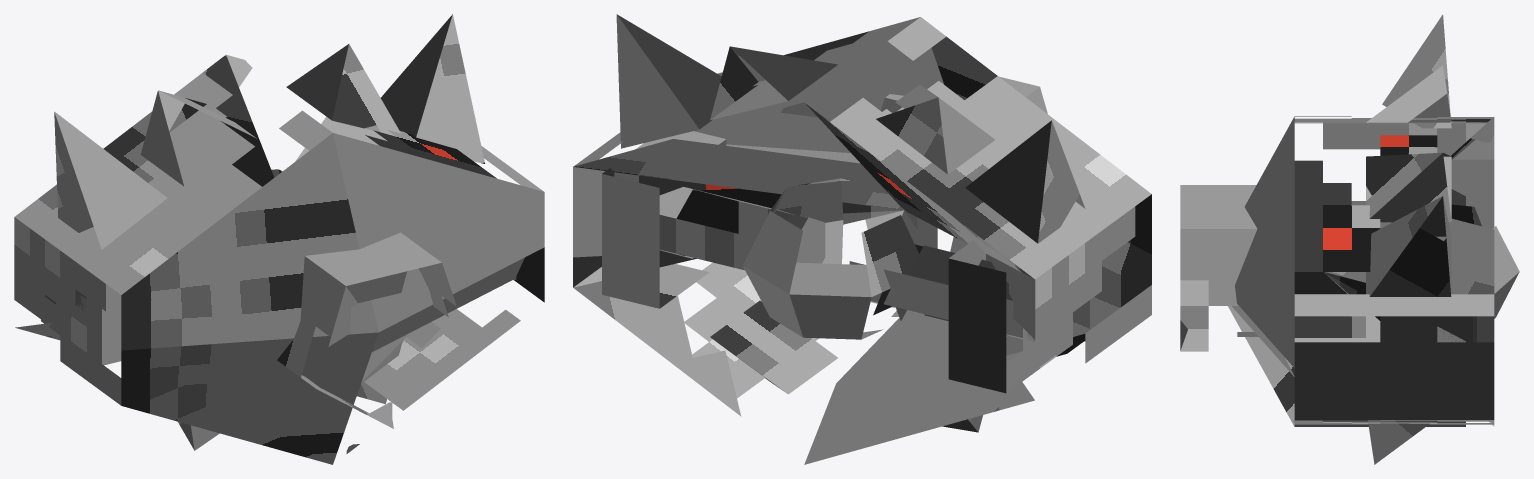
The model's file is dalnik_bbmodel (1).fbx.
3 renders of one model, left to right at view 1: azimuth 30°, elevation 25°; view 2: azimuth 150°, elevation 25°; view 3: azimuth 270°, elevation 25°, orthographic. The views are drawn at different scales.
Visible parts, largest first — view 1: cuboid, cylinder_2, pyramid, pyramid_3, pyramid_5, cuboid_2, pyramid_2, pyramid_1, pyramid_4; view 2: cuboid, sphere, pyramid_3, cuboid_2, cuboid_1, pyramid, cylinder_1, pyramid_1, pyramid_5, pyramid_2, cylinder, cylinder_2; view 3: cuboid, cylinder_2, pyramid_3, pyramid_5, cuboid_2, pyramid_2, pyramid, cuboid_1, sphere, pyramid_1, pyramid_4.
Boxes of the visible parts, x1=… form: cuboid: x1=14, y1=54, x2=544, y2=464; cylinder_2: x1=277, y1=232, x2=456, y2=428; pyramid: x1=54, y1=111, x2=167, y2=249; pyramid_3: x1=381, y1=14, x2=484, y2=163; pyramid_5: x1=286, y1=44, x2=400, y2=135; cuboid_2: x1=41, y1=284, x2=121, y2=365; pyramid_2: x1=140, y1=90, x2=256, y2=186; pyramid_1: x1=357, y1=341, x2=402, y2=404; pyramid_4: x1=178, y1=422, x2=219, y2=450; cuboid: x1=573, y1=17, x2=1151, y2=464; sphere: x1=742, y1=178, x2=918, y2=339; pyramid_3: x1=616, y1=14, x2=721, y2=148; cuboid_2: x1=948, y1=236, x2=1072, y2=393; cuboid_1: x1=602, y1=131, x2=726, y2=308; pyramid: x1=965, y1=120, x2=1085, y2=243; cylinder_1: x1=659, y1=187, x2=825, y2=270; pyramid_1: x1=710, y1=300, x2=837, y2=394; pyramid_5: x1=710, y1=46, x2=837, y2=120; pyramid_2: x1=876, y1=84, x2=995, y2=174; cylinder: x1=849, y1=244, x2=1034, y2=341; cylinder_2: x1=880, y1=76, x2=1047, y2=248; cuboid: x1=1228, y1=116, x2=1494, y2=426; cylinder_2: x1=1180, y1=185, x2=1258, y2=351; pyramid_3: x1=1366, y1=196, x2=1451, y2=296; pyramid_5: x1=1366, y1=152, x2=1451, y2=222; cuboid_2: x1=1380, y1=135, x2=1494, y2=228; pyramid_2: x1=1366, y1=65, x2=1451, y2=122; pyramid: x1=1382, y1=14, x2=1451, y2=128; cuboid_1: x1=1380, y1=316, x2=1472, y2=342; sphere: x1=1451, y1=204, x2=1519, y2=318; pyramid_1: x1=1367, y1=420, x2=1433, y2=464; pyramid_4: x1=1366, y1=316, x2=1380, y2=342.
Size of the model in its own units: 100 by 77.74 by 74.28.
